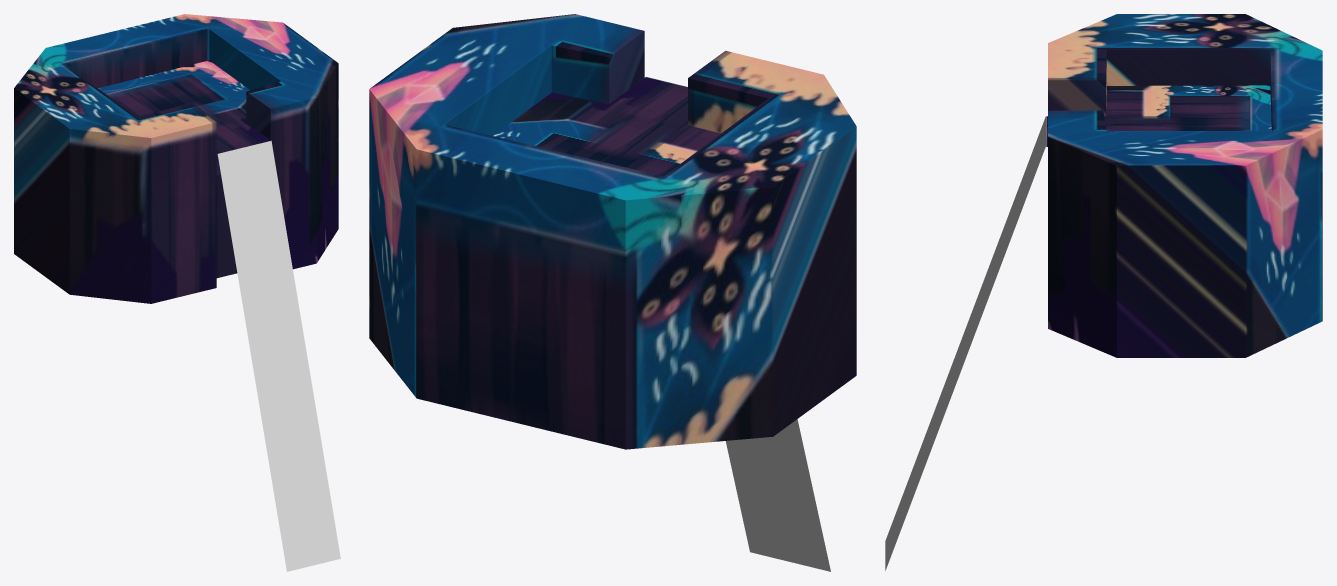
File: Fuente.fbx
3 views of the same model, side by side, from view 1: azimuth 30°, elevation 25°; view 2: azimuth 150°, elevation 25°; view 3: azimuth 270°, elevation 25° (orthographic). The views are drawn at different scales.
Parts seen in each view (by area): view 1: Cube, Cube.001, Cube.002; view 2: Cube, Cube.002, Cube.001; view 3: Cube, Cube.002, Cube.001.
Boxes of the visible parts, x1,y1,x2,y2 form: Cube: (14,14,338,303); Cube.001: (217,140,340,571); Cube.002: (98,60,270,153); Cube: (369,14,856,449); Cube.002: (493,77,720,176); Cube.001: (646,77,830,571); Cube: (1048,14,1322,357); Cube.002: (1046,85,1271,146); Cube.001: (885,116,1045,570).
Bounding box in the file's own units: 546 × 774 × 665.
